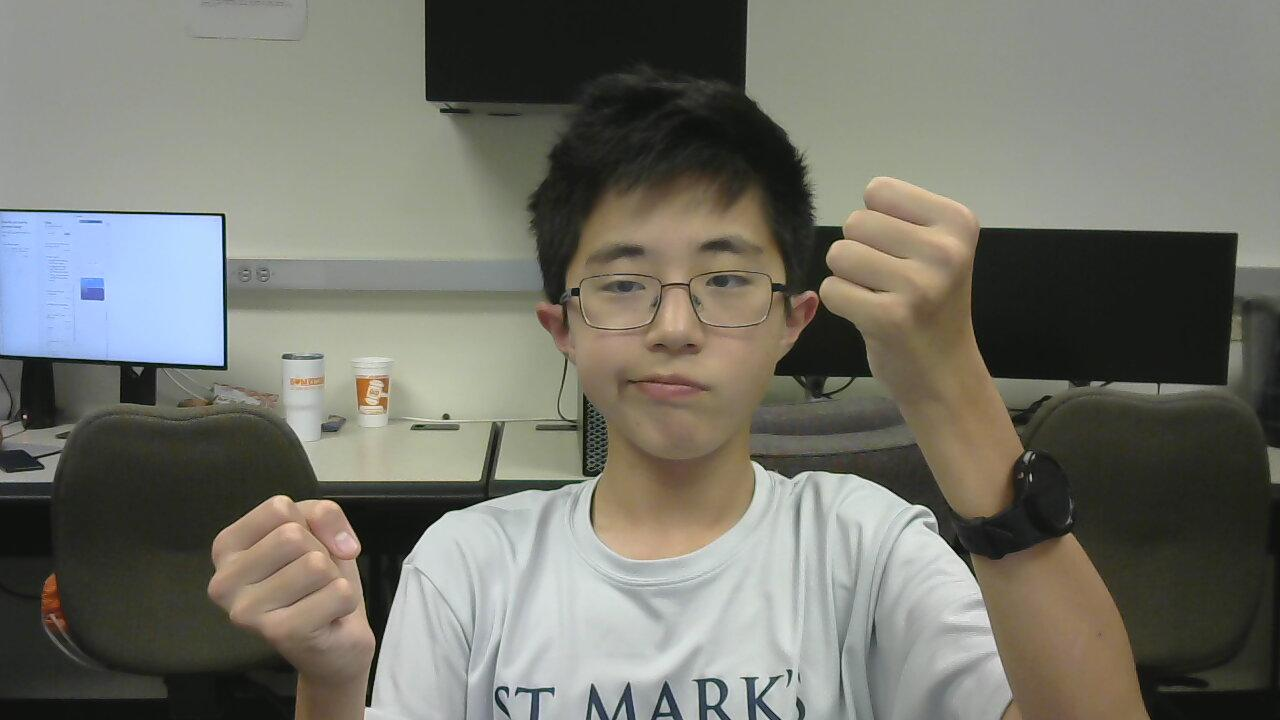fist: (816, 164, 1009, 378), (193, 484, 382, 691)
